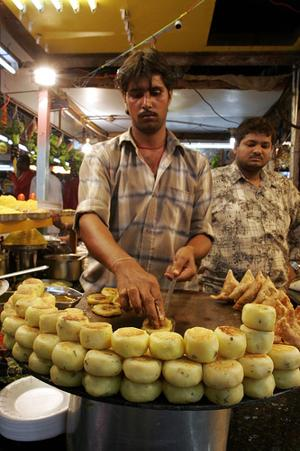person: (77, 52, 217, 332)
